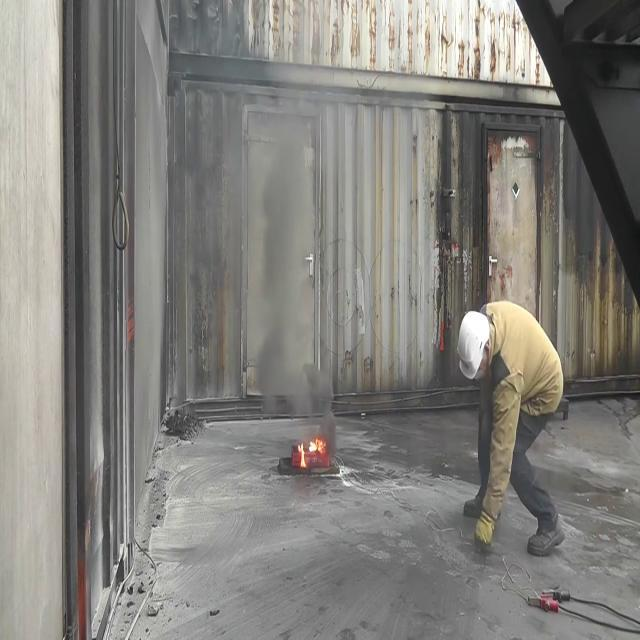Fire: (293, 428, 329, 469)
Smoke: (188, 128, 336, 426)
